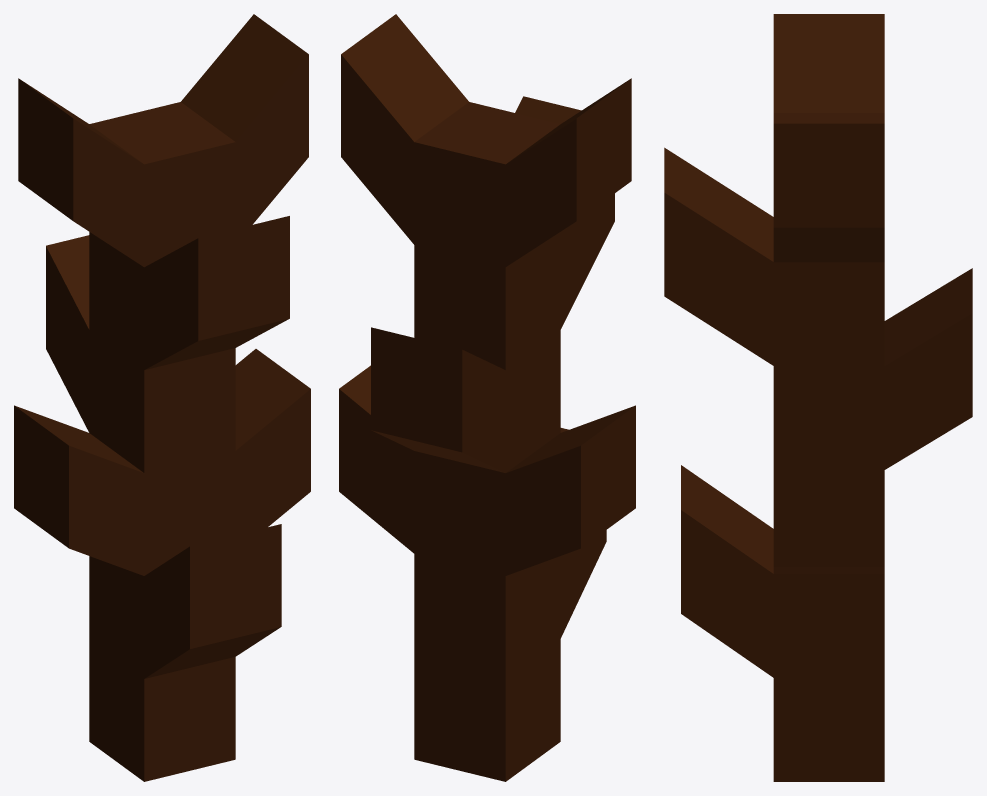
The model's file is DesertTree.fbx.
3 renders of one model, left to right at view 1: azimuth 30°, elevation 25°; view 2: azimuth 150°, elevation 25°; view 3: azimuth 270°, elevation 25°, orthographic.
Visible parts, largest first — view 1: Cube; view 2: Cube; view 3: Cube.
Boxes of the visible parts, x1,y1,x2,y2 form: Cube: (14, 14, 310, 781); Cube: (339, 14, 635, 781); Cube: (664, 14, 972, 781).
Bounding box in the file's own units: 82.01 × 89.57 × 223.
